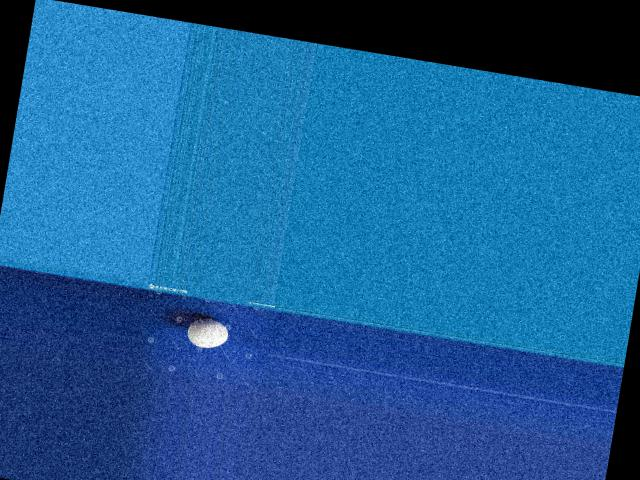egg: (186, 315, 231, 350)
